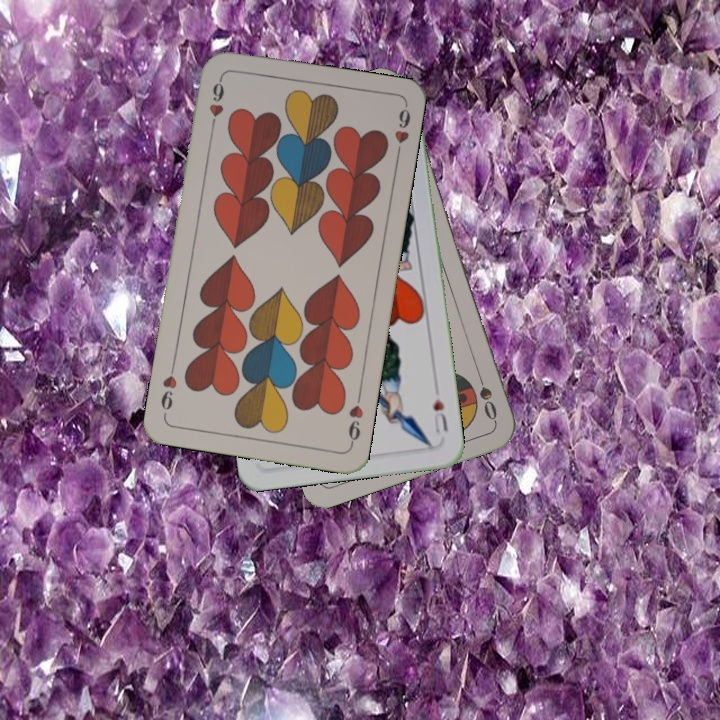H9: (344, 389, 366, 448), (205, 73, 227, 132)
HU: (429, 394, 450, 439)
SO: (472, 366, 500, 424)
